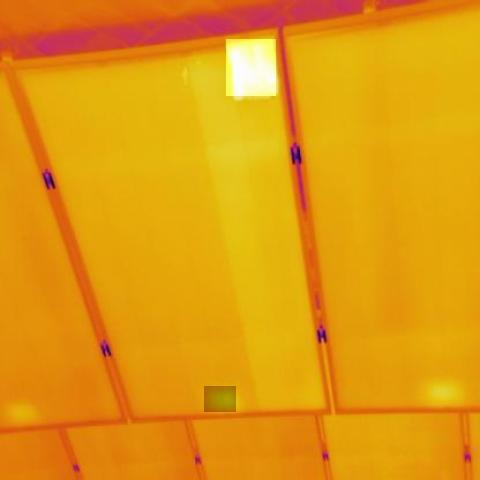fault: (226, 39, 276, 96), (204, 386, 236, 412)
